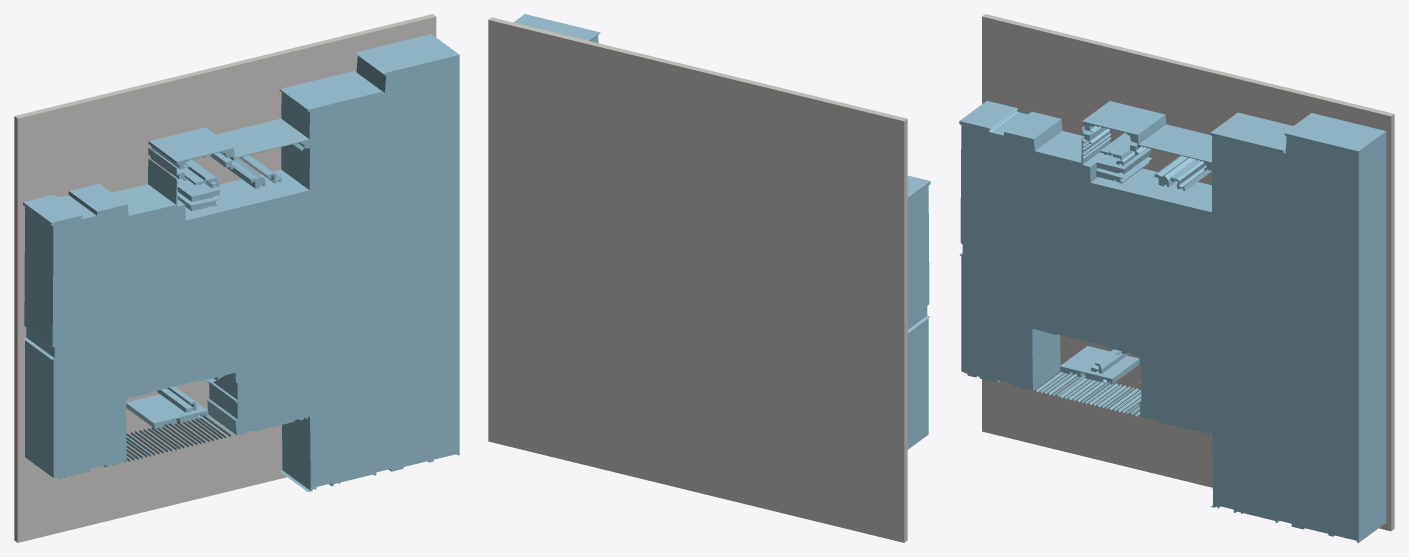
3 views of the same model, side by side, from view 1: azimuth 30°, elevation 25°; view 2: azimuth 150°, elevation 25°; view 3: azimuth 330°, elevation 25° (orthographic). The views are drawn at different scales.
Visible parts, largest first — view 1: world; view 2: world; view 3: world.
Boxes of the visible parts, x1=… form: world: x1=14, y1=14, x2=459, y2=542; world: x1=488, y1=14, x2=930, y2=542; world: x1=959, y1=14, x2=1394, y2=542.
Size of the model in its own units: 10.23 by 9.91 by 1.35.
